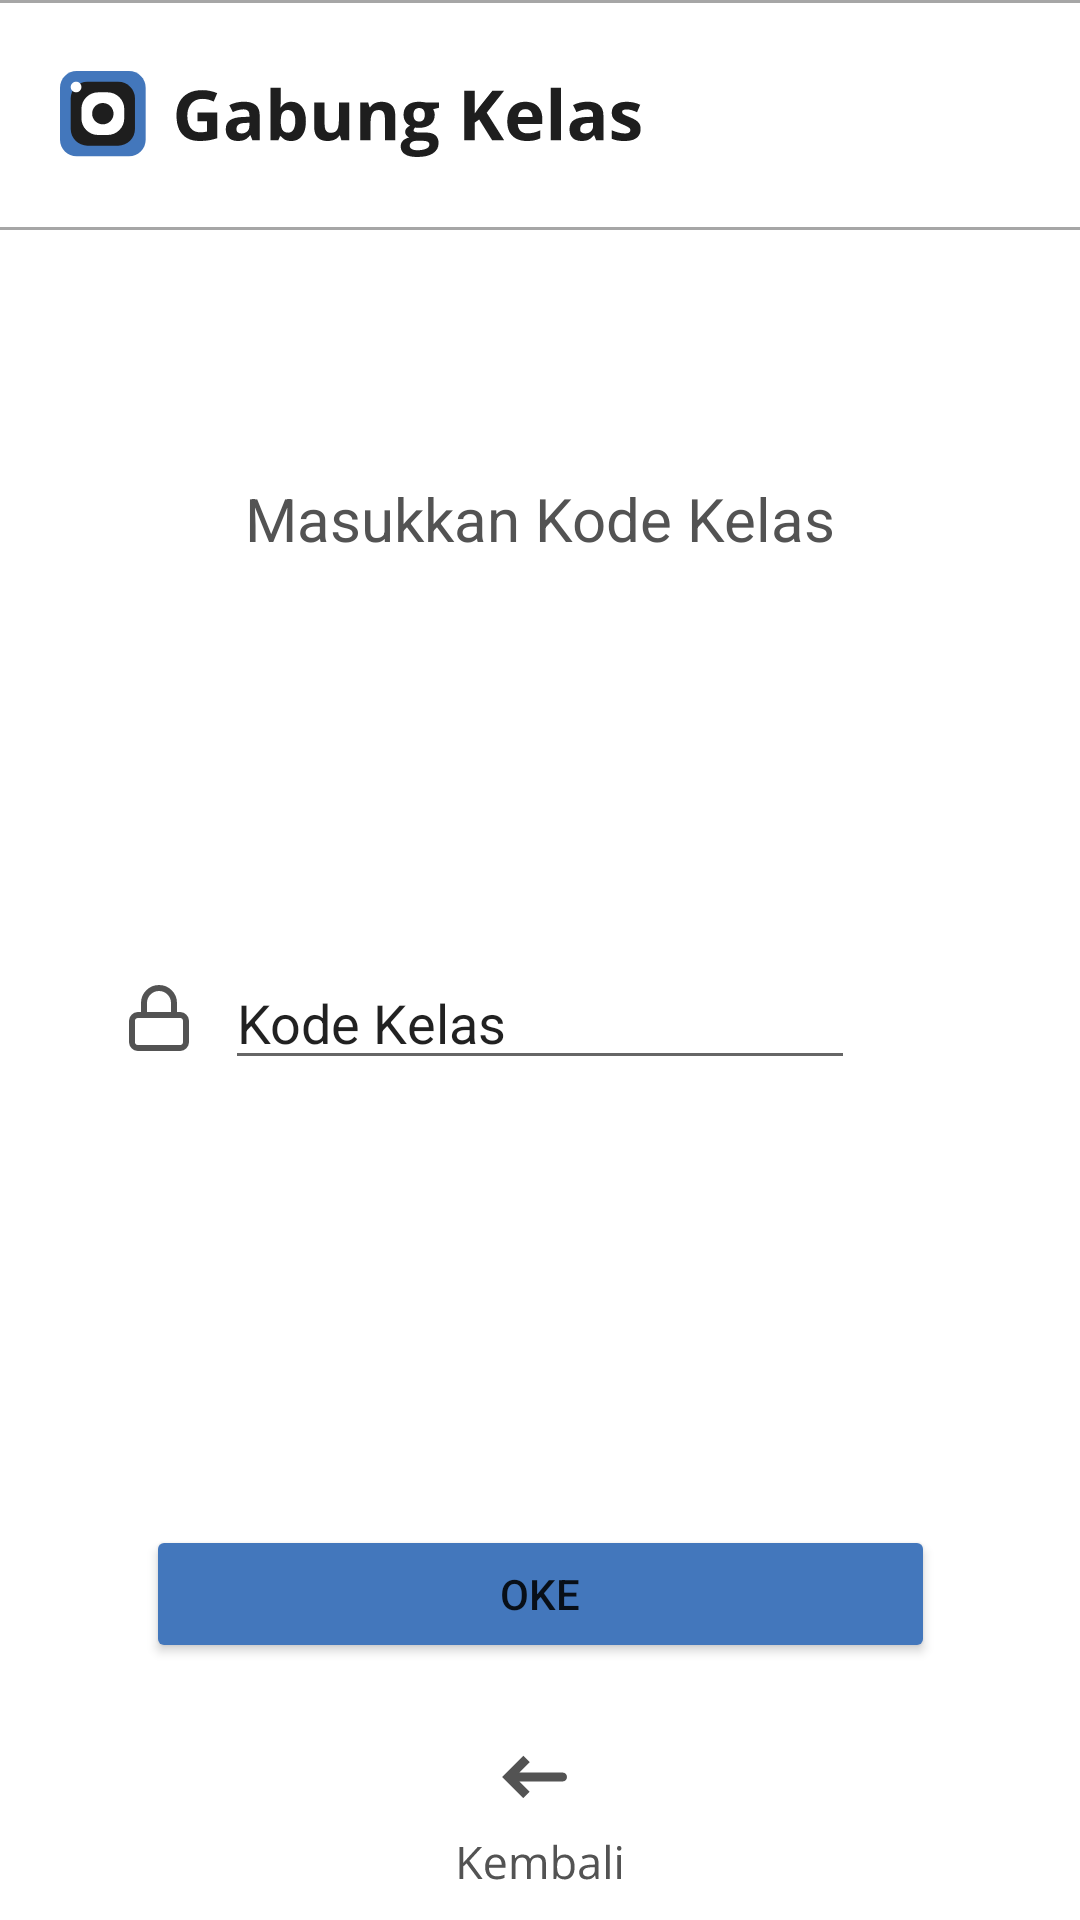

Screen size 1080x1920. Icon name, then its box in pixels as bbox=[x1, y1, x2, y2]:
kunci: bbox=[129, 985, 189, 1051]
